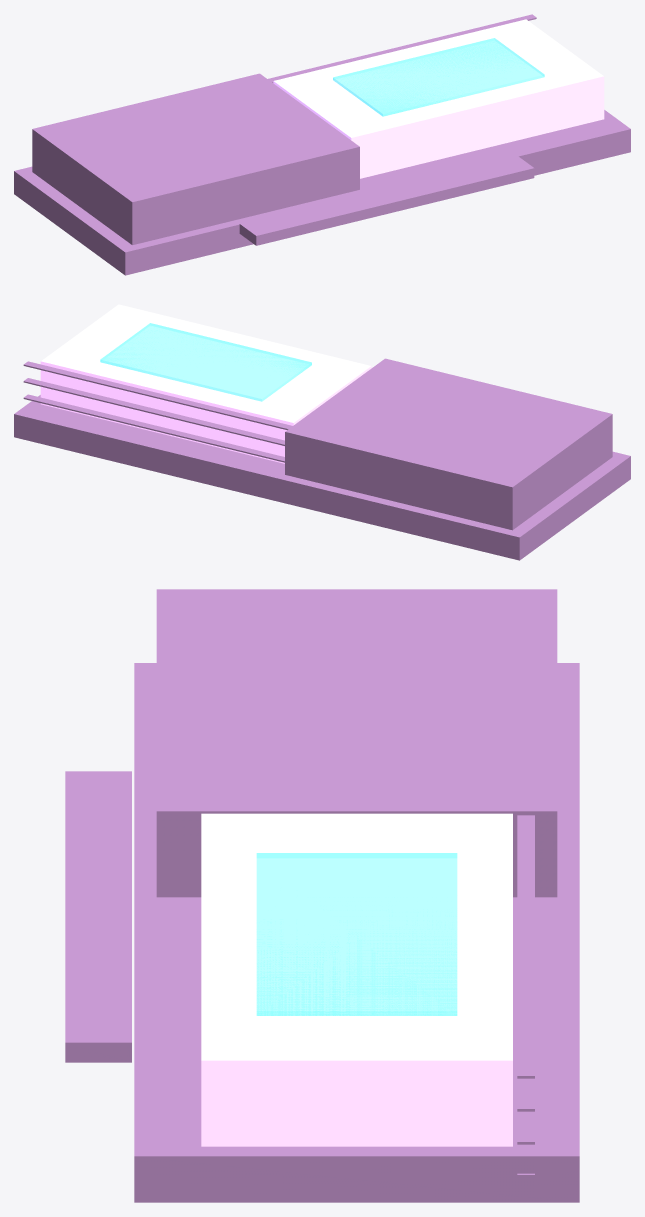
The model's file is grand_conference_hotel.glb.
3 views of the same model, one above another, from view 1: azimuth 30°, elevation 25°; view 2: azimuth 150°, elevation 25°; view 3: azimuth 270°, elevation 25° (orthographic). The views are drawn at different scales.
Parts seen in each view (by area): view 1: grand_conference_hotel; view 2: grand_conference_hotel; view 3: grand_conference_hotel.
Boxes of the visible parts, left/top/right/bottom form: grand_conference_hotel: left=14, top=14, right=630, bottom=275; grand_conference_hotel: left=14, top=304, right=630, bottom=560; grand_conference_hotel: left=65, top=589, right=579, bottom=1202.
Size of the model in its own units: 128 by 16.64 by 56.36.
